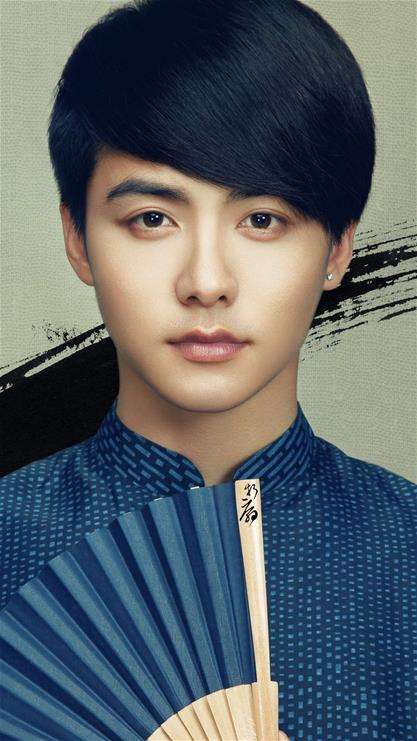person: (34, 13, 417, 640)
